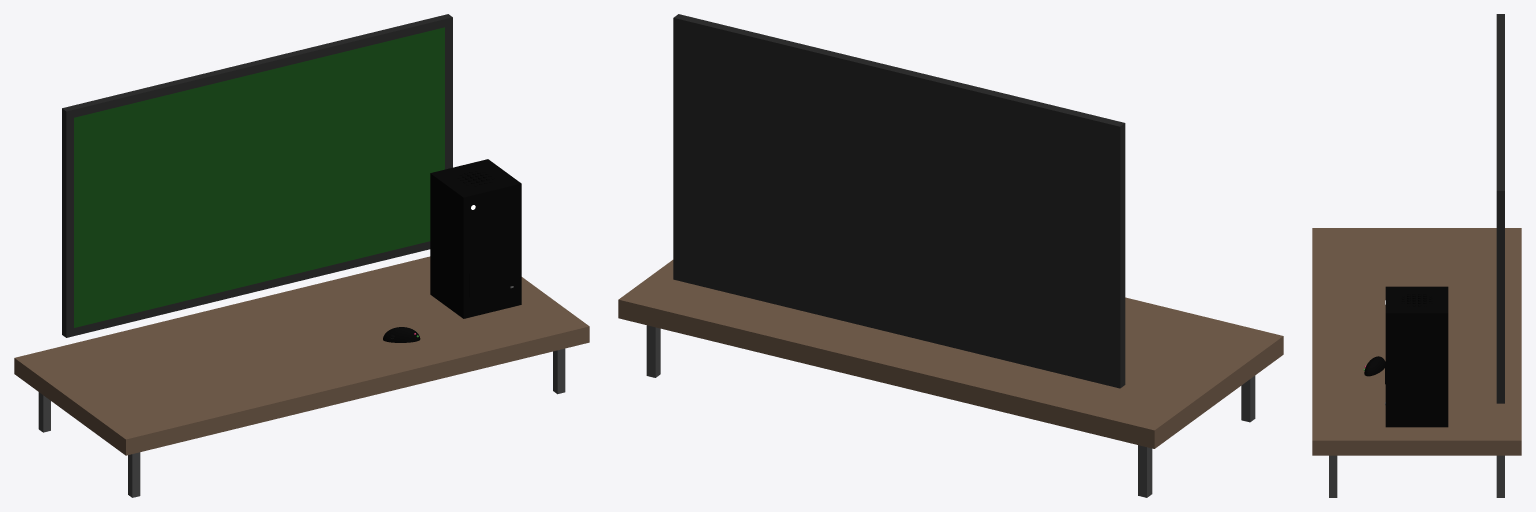
File: a-xbox.gltf
The picture shows the model from 3 angles, left to right: view 1: azimuth 30°, elevation 25°; view 2: azimuth 150°, elevation 25°; view 3: azimuth 270°, elevation 25°; orthographic projection. The views are drawn at different scales.
Bounding box in the file's own units: 120 × 78 × 50.
